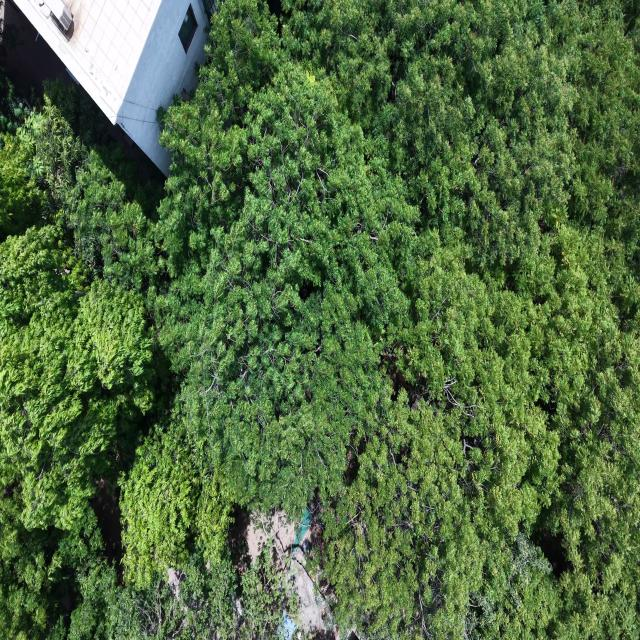ROOFTOP_BUILDING: (14, 0, 212, 174)
VEGETATION_TREE: (0, 0, 639, 639)
